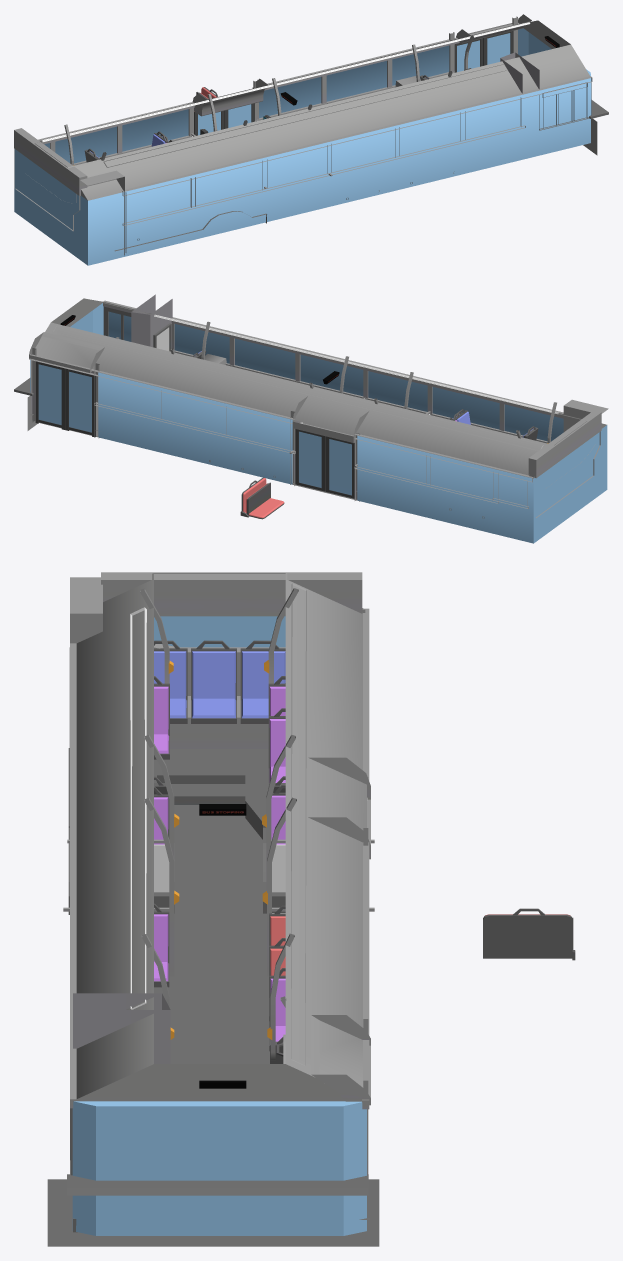
Rendered from Bus Interior.fbx.
The picture shows the model from 3 angles, top to bottom: view 1: azimuth 30°, elevation 25°; view 2: azimuth 150°, elevation 25°; view 3: azimuth 270°, elevation 25°; orthographic projection. The views are drawn at different scales.
Visible parts, largest first — view 1: pCube8059, pCube8187, pCube8243, pCube8324, pCube8240, pCube8110, pCube8214, pCube8273, pCube8198, pCube8061, pCube8268, pCube8225 (+5 smaller); view 2: pCube8059, pCube8243, pCube8187, pCube8225, pCube8268, pCube8260, pCube8257, pCube8258, pCube8273, pCube8214, pCube8061, pCube8240 (+9 smaller); view 3: pCube8059, pCube8187, pCube8232, pCube8072, pCube8231, pCube8061, pCube8225, pCube8461, pCube8530, pCube8243, pCube8532, pCube8309 (+11 smaller).
Part boxes in pixels (x1=…): pCube8059: x1=14, y1=20, x2=591, y2=265; pCube8187: x1=14, y1=128, x2=87, y2=195; pCube8243: x1=122, y1=76, x2=592, y2=196; pCube8324: x1=40, y1=22, x2=530, y2=142; pCube8240: x1=122, y1=125, x2=525, y2=225; pCube8110: x1=192, y1=78, x2=268, y2=116; pCube8214: x1=252, y1=23, x2=518, y2=90; pCube8273: x1=103, y1=64, x2=507, y2=167; pCube8198: x1=38, y1=102, x2=194, y2=144; pCube8061: x1=15, y1=170, x2=124, y2=255; pCube8268: x1=487, y1=33, x2=510, y2=64; pCube8225: x1=500, y1=52, x2=539, y2=93; pCube8059: x1=30, y1=298, x2=607, y2=543; pCube8243: x1=103, y1=300, x2=563, y2=418; pCube8187: x1=528, y1=410, x2=601, y2=478; pCube8225: x1=131, y1=294, x2=226, y2=364; pCube8268: x1=38, y1=364, x2=61, y2=424; pCube8260: x1=69, y1=371, x2=91, y2=432; pCube8257: x1=299, y1=431, x2=321, y2=487; pCube8258: x1=329, y1=439, x2=351, y2=495; pCube8273: x1=154, y1=314, x2=558, y2=414; pCube8214: x1=29, y1=354, x2=295, y2=423; pCube8061: x1=536, y1=399, x2=608, y2=517; pCube8240: x1=174, y1=350, x2=547, y2=443; pCube8059: x1=72, y1=573, x2=366, y2=1235; pCube8187: x1=101, y1=572, x2=362, y2=616; pCube8232: x1=47, y1=1179, x2=379, y2=1246; pCube8072: x1=68, y1=748, x2=285, y2=914; pCube8231: x1=67, y1=1174, x2=368, y2=1195; pCube8061: x1=70, y1=577, x2=268, y2=748; pCube8225: x1=73, y1=993, x2=170, y2=1232; pCube8461: x1=483, y1=914, x2=572, y2=958; pCube8530: x1=191, y1=640, x2=236, y2=723; pCube8243: x1=70, y1=643, x2=76, y2=1108; pCube8532: x1=240, y1=640, x2=285, y2=723; pCube8309: x1=311, y1=1015, x2=370, y2=1105.
Size of the model in its own units: 24.12 by 4.42 by 10.59.
1 material, 1 textured.
